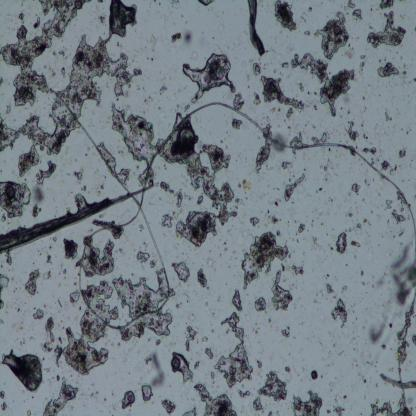Air bubble: (111, 102, 155, 162), (182, 64, 206, 104), (178, 353, 193, 382), (174, 260, 190, 283), (336, 231, 347, 255), (74, 193, 88, 210), (141, 385, 154, 401), (198, 0, 214, 6)
Background material: (0, 36, 144, 178), (0, 0, 88, 106), (164, 135, 237, 224), (292, 51, 354, 112), (64, 312, 110, 379), (242, 226, 288, 291), (214, 312, 252, 388), (112, 267, 166, 318), (1, 349, 44, 394), (314, 11, 350, 62), (365, 9, 406, 50), (174, 210, 218, 247), (389, 244, 416, 303), (261, 74, 305, 109), (121, 315, 172, 345), (194, 381, 236, 416), (105, 1, 139, 43), (85, 280, 118, 322), (206, 52, 237, 96), (0, 181, 32, 219), (44, 381, 78, 416), (85, 240, 114, 278), (258, 370, 288, 403), (292, 387, 324, 416), (271, 272, 294, 312), (272, 0, 299, 31), (144, 352, 167, 388), (369, 396, 406, 416), (283, 173, 306, 203), (91, 222, 125, 241), (349, 360, 372, 388), (366, 315, 388, 343), (35, 159, 56, 187), (255, 138, 272, 172), (332, 298, 348, 328), (62, 236, 79, 260), (184, 324, 198, 352), (377, 61, 400, 78), (27, 267, 40, 297), (272, 132, 287, 155), (121, 389, 136, 410), (42, 333, 56, 354), (289, 130, 306, 147), (231, 287, 243, 311), (30, 184, 45, 203), (195, 266, 207, 289), (160, 398, 177, 414), (380, 160, 398, 175), (310, 129, 327, 144), (53, 344, 64, 367), (392, 206, 406, 224), (348, 121, 360, 141), (158, 180, 175, 194), (351, 7, 366, 22), (253, 297, 268, 312), (251, 396, 264, 413), (136, 249, 150, 264), (0, 271, 10, 292), (362, 142, 378, 155), (379, 0, 396, 12), (137, 121, 154, 133), (376, 272, 387, 290), (290, 262, 304, 276), (30, 308, 44, 322), (68, 289, 80, 305), (31, 13, 41, 32), (359, 53, 366, 79), (266, 194, 281, 206), (348, 238, 363, 250), (232, 116, 243, 132), (182, 405, 198, 416), (234, 93, 244, 110), (30, 204, 41, 219), (311, 236, 323, 249), (384, 197, 394, 212), (252, 90, 262, 105), (44, 318, 54, 333), (350, 182, 362, 194), (238, 389, 250, 401), (240, 179, 252, 191), (170, 32, 183, 43), (162, 213, 173, 226), (281, 326, 291, 340), (309, 369, 318, 384), (317, 160, 328, 172), (396, 147, 408, 158), (248, 216, 260, 227), (395, 191, 405, 204), (204, 346, 214, 359), (334, 406, 347, 416), (252, 63, 262, 76), (158, 84, 168, 96), (345, 0, 357, 10), (183, 32, 193, 44), (176, 191, 183, 208), (383, 110, 393, 121), (281, 159, 291, 170), (42, 269, 52, 280), (71, 171, 83, 180), (265, 122, 273, 135), (297, 223, 306, 234), (17, 11, 25, 23), (326, 283, 334, 295), (341, 283, 349, 295), (340, 392, 350, 401), (284, 364, 292, 375), (286, 107, 294, 118), (6, 251, 12, 265), (0, 400, 7, 412), (364, 218, 373, 227), (270, 215, 279, 224), (280, 260, 286, 273), (56, 298, 63, 309), (256, 358, 262, 370), (60, 66, 66, 78), (402, 62, 408, 74), (46, 253, 52, 265), (344, 209, 352, 218), (174, 300, 182, 309), (193, 360, 200, 370), (99, 14, 105, 25), (198, 193, 204, 204), (315, 186, 323, 194), (201, 335, 208, 344), (156, 336, 161, 348), (149, 259, 155, 269), (364, 177, 370, 187), (397, 230, 404, 238), (304, 28, 311, 36), (282, 61, 289, 69), (0, 298, 5, 309), (5, 106, 11, 115), (0, 390, 5, 400), (184, 104, 191, 111), (58, 50, 65, 57), (26, 408, 32, 416), (412, 334, 416, 346), (356, 222, 362, 230), (55, 374, 61, 382), (388, 320, 394, 328), (52, 235, 58, 243), (0, 215, 6, 222), (58, 334, 62, 344), (276, 228, 281, 236), (382, 343, 387, 351), (211, 370, 214, 382), (99, 184, 105, 190), (359, 269, 364, 276), (139, 224, 144, 231), (0, 317, 3, 327), (308, 7, 312, 14), (327, 407, 331, 414), (0, 77, 3, 86), (411, 78, 416, 83), (62, 268, 66, 274), (313, 104, 317, 110), (84, 184, 86, 192)
Cellulose filter fibre: (0, 190, 126, 250), (247, 0, 265, 56), (379, 372, 416, 390)
Diatom: (179, 126, 195, 147), (170, 355, 181, 371), (74, 0, 83, 10)
Microfibre: (48, 87, 416, 332), (395, 287, 416, 415)
